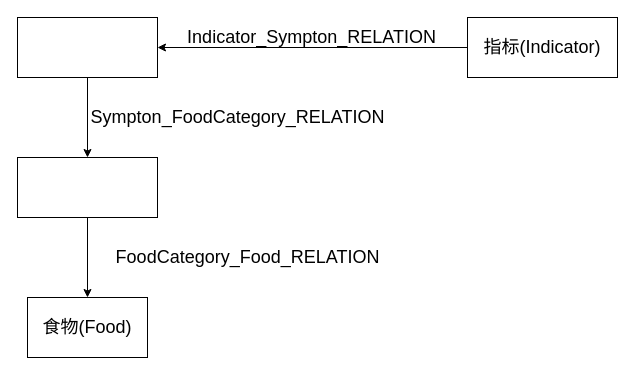
This 635x375 diagram has some shape labels left out. Each missing label, with the centre of its shape:
症状(Symptom): [87,47]
类别(FoodCategory): [87,187]
